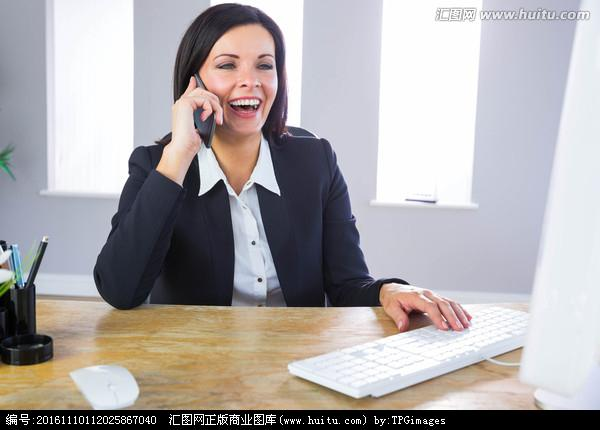calling: (165, 68, 227, 153)
no-phone: (379, 282, 473, 337)
